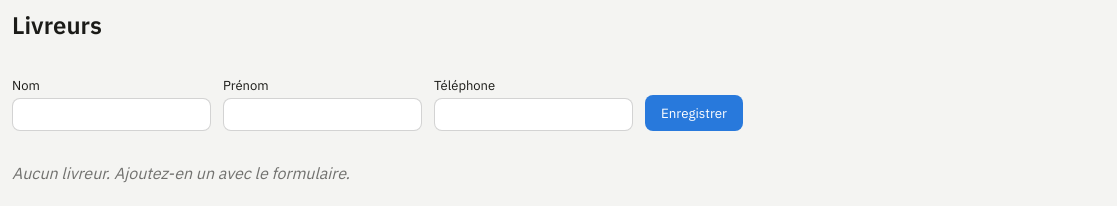
it: LivreursSection › ajoute un livreur via le formulaire
In the field labelled "Nom": (112, 114) left=12, top=98, right=211, bottom=131, type "Benali"
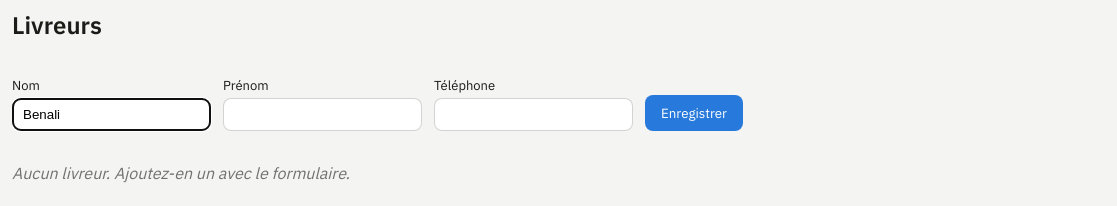
In the field labelled "Prénom": (322, 114) left=223, top=98, right=422, bottom=131, type "Karim"
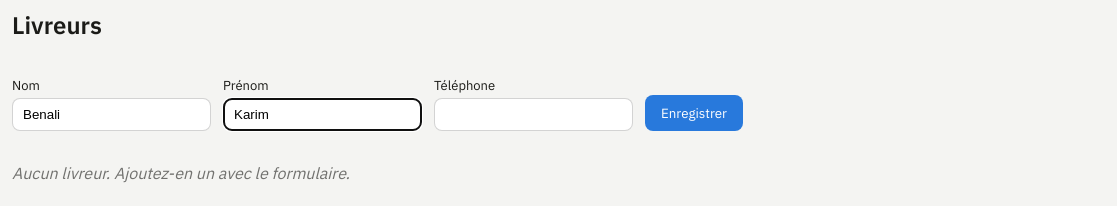
In the field labelled "Téléphone": (534, 114) left=434, top=98, right=633, bottom=131, type "0612345678"
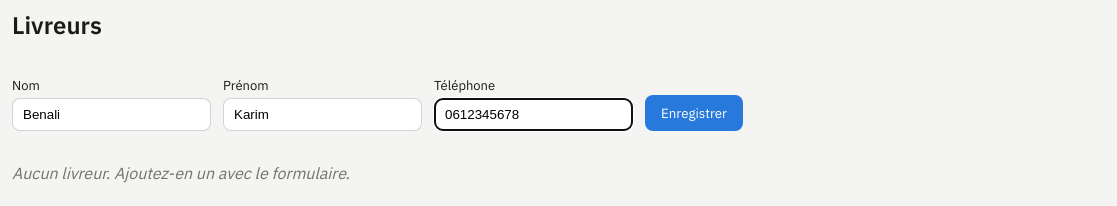
Click the button "Enregistrer": (694, 113) left=645, top=95, right=743, bottom=131
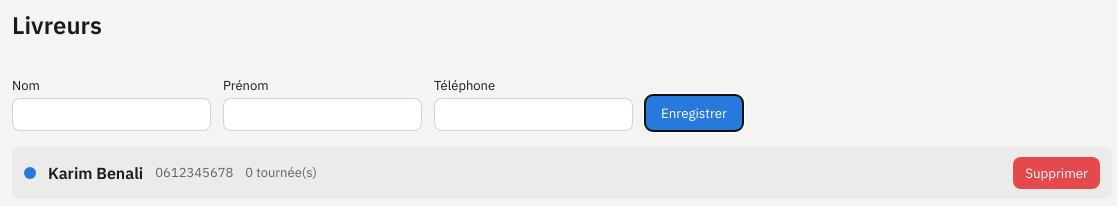
Now the text "Karim Benali" is shown, box left=48, top=163, right=143, bottom=183
Now the text "0612345678" is shown, box left=155, top=164, right=233, bottom=181
